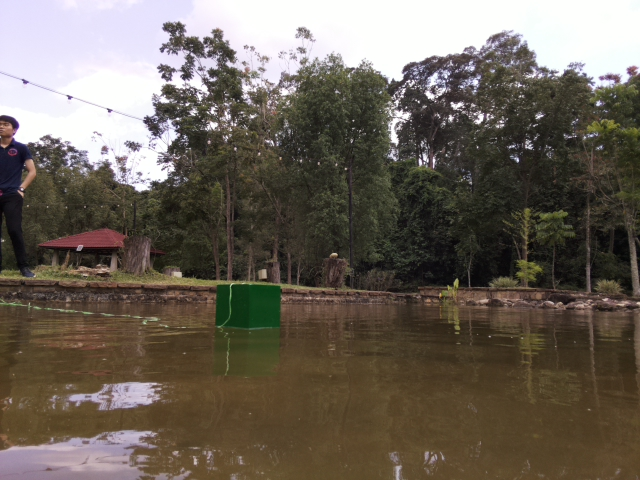obstacle: (214, 283, 282, 330)
